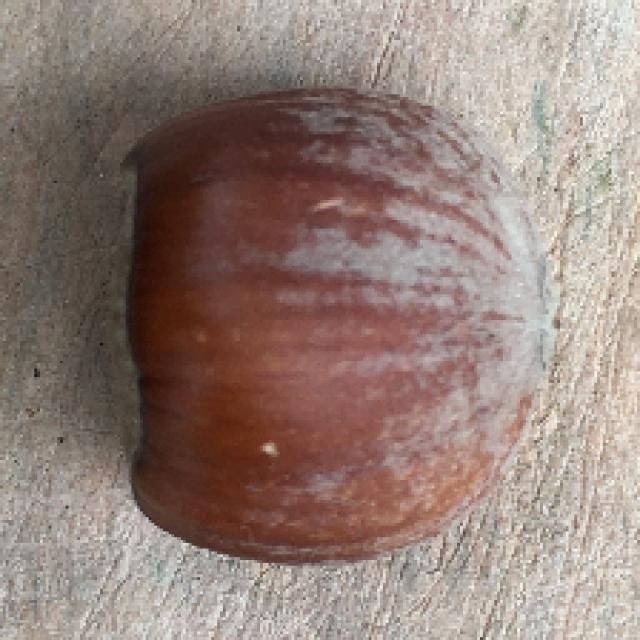qualityHazelnut: (72, 95, 560, 559)
